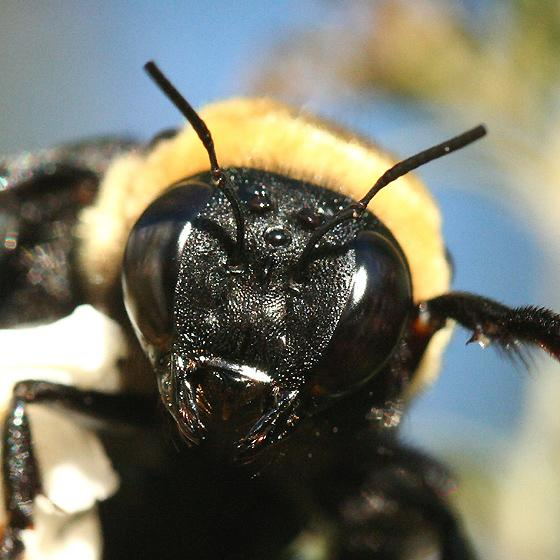Xylocopa: (2, 39, 560, 560)
